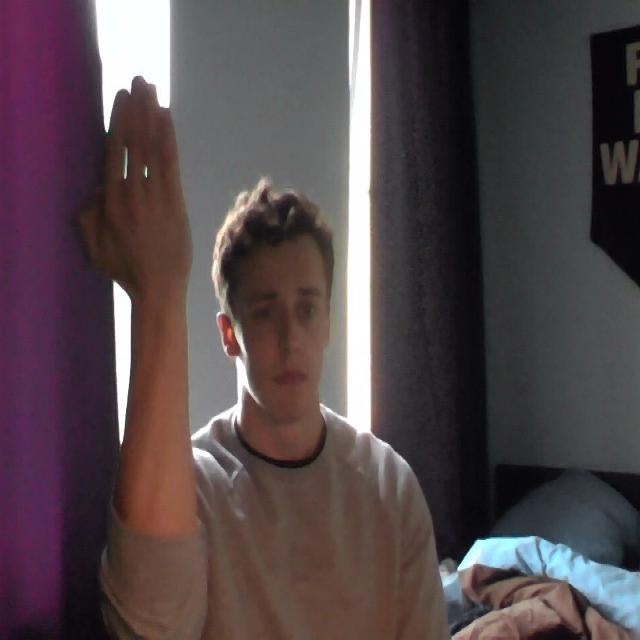forward: (61, 64, 210, 304)
